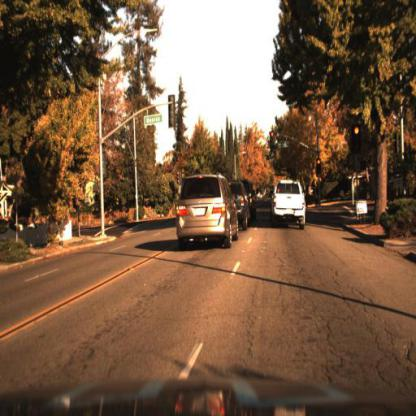car: (177, 174, 237, 253), (268, 178, 308, 234), (225, 184, 249, 231)
trafficLight-Red: (269, 126, 278, 151), (316, 156, 325, 175)
